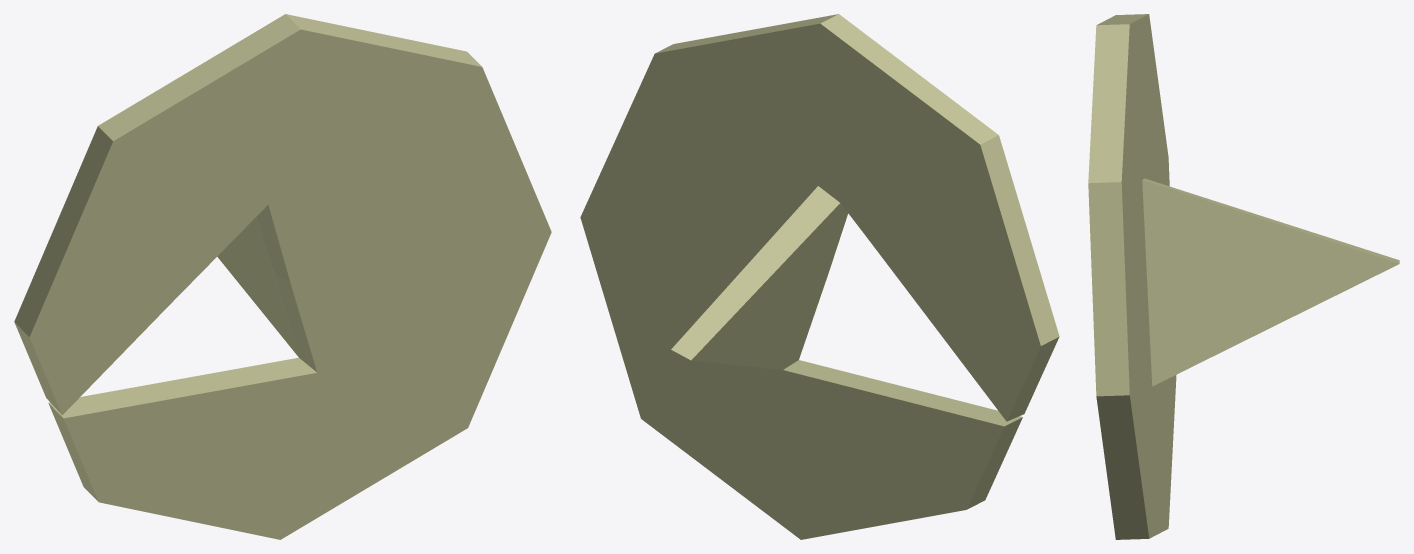
The model's file is pin.fbx.
3 renders of one model, left to right at view 1: azimuth 30°, elevation 25°; view 2: azimuth 150°, elevation 25°; view 3: azimuth 270°, elevation 25°, orthographic. The views are drawn at different scales.
Parts seen in each view (by area): view 1: polySurface52; view 2: polySurface52; view 3: polySurface52.
Boxes of the visible parts, <box> form: polySurface52: <box>14,14,551,539</box>; polySurface52: <box>580,14,1059,539</box>; polySurface52: <box>1088,14,1399,539</box>.
Size of the model in its own units: 0.3665 by 0.3665 by 0.2041.
